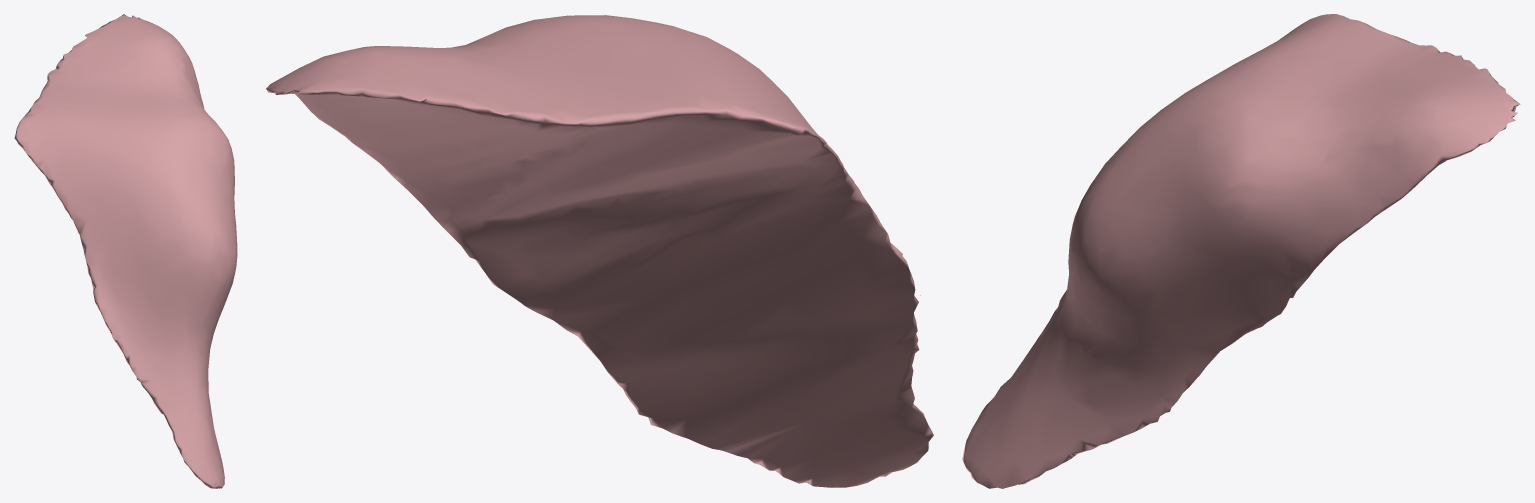
File: fma84975_mm851.glb
The picture shows the model from 3 angles, left to right: view 1: azimuth 30°, elevation 25°; view 2: azimuth 150°, elevation 25°; view 3: azimuth 270°, elevation 25°; orthographic projection. The views are drawn at different scales.
Visible parts, largest first — view 1: FMA84975_MM851; view 2: FMA84975_MM851; view 3: FMA84975_MM851.
Boxes of the visible parts, left/top/right/bottom form: FMA84975_MM851: left=14, top=14, right=237, bottom=488; FMA84975_MM851: left=266, top=15, right=933, bottom=487; FMA84975_MM851: left=962, top=14, right=1520, bottom=488.
Size of the model in its own units: 0.00401 by 0.00559 by 0.00633.
